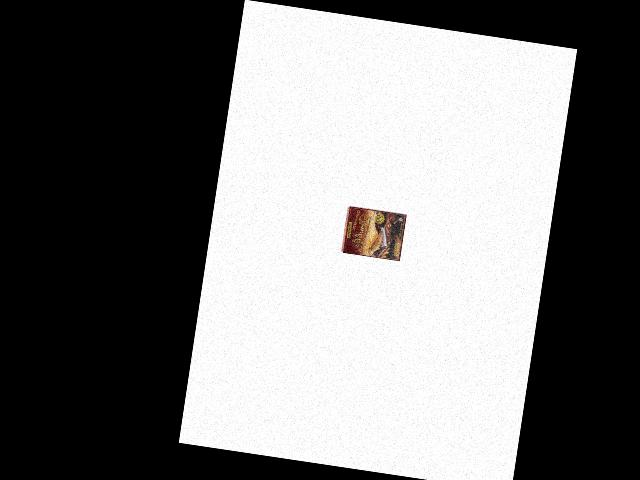chocolate: (340, 205, 407, 261)
